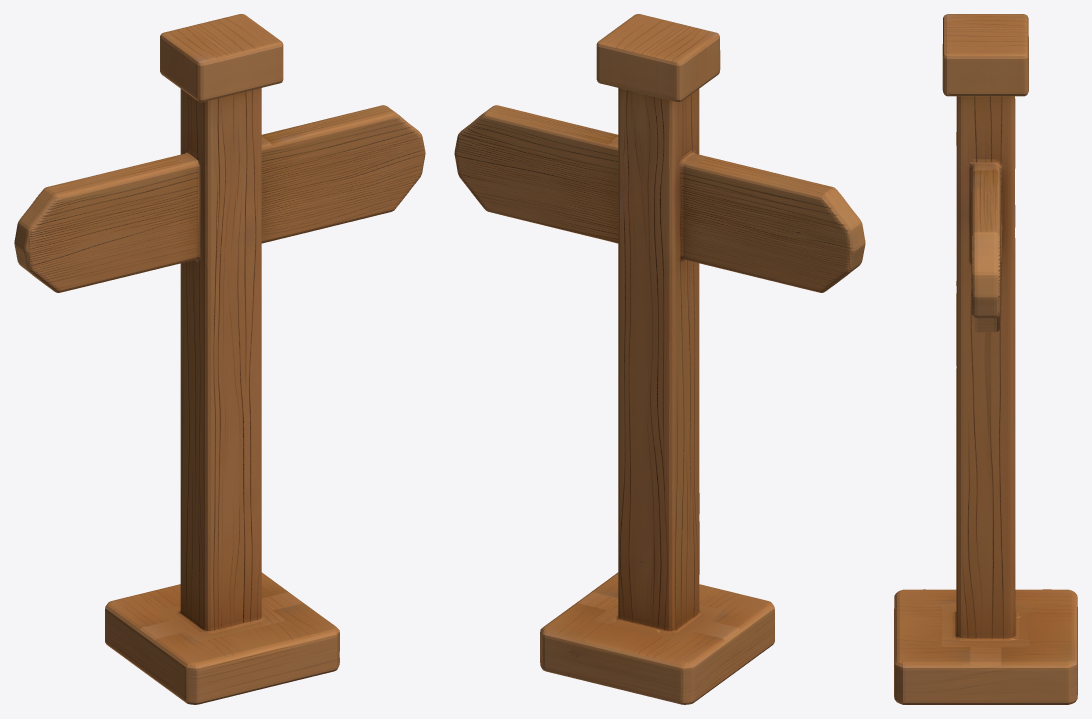
File: signpost.glb
3 views of the same model, side by side, from view 1: azimuth 30°, elevation 25°; view 2: azimuth 150°, elevation 25°; view 3: azimuth 270°, elevation 25° (orthographic). The views are drawn at different scales.
Parts seen in each view (by area): view 1: textured_mesh.obj; view 2: textured_mesh.obj; view 3: textured_mesh.obj.
Boxes of the visible parts, bbox=[...] form: textured_mesh.obj: bbox=[14, 14, 425, 704]; textured_mesh.obj: bbox=[454, 14, 865, 704]; textured_mesh.obj: bbox=[894, 14, 1077, 704].
Bounding box in the file's own units: 1.35 × 1.99 × 0.5223.
Materials: 1 (1 with a texture image).
